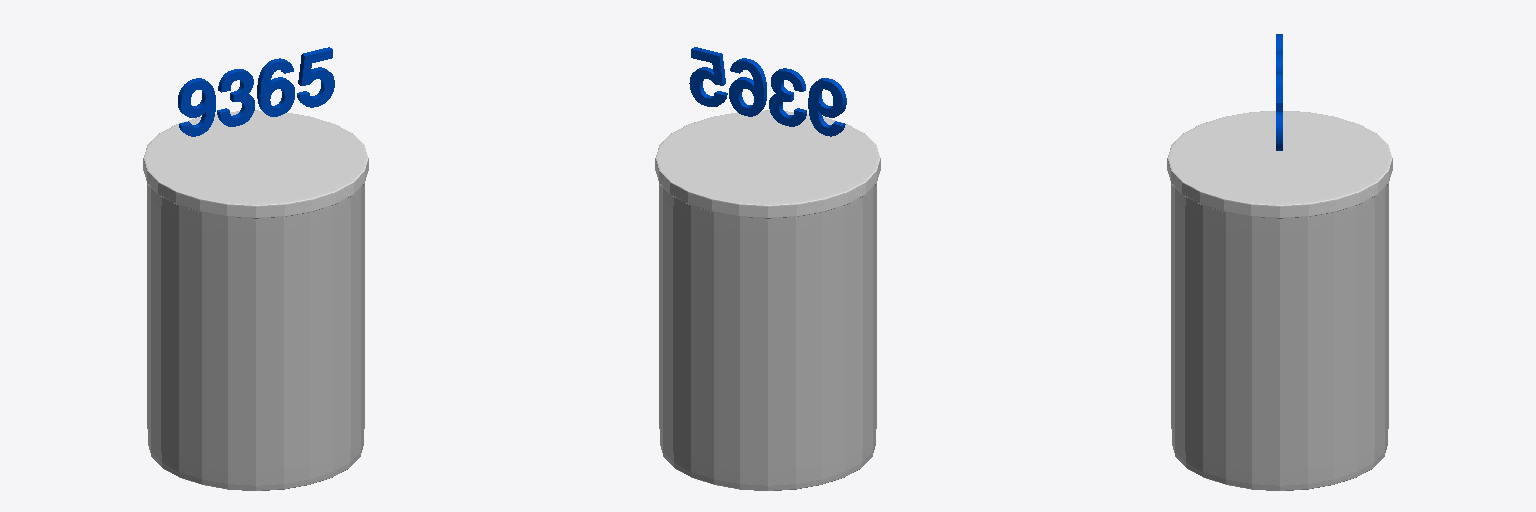
Rendered from BOTE_AVENA_QUAKER.obj.
The picture shows the model from 3 angles: view 1: azimuth 30°, elevation 25°; view 2: azimuth 150°, elevation 25°; view 3: azimuth 270°, elevation 25°; orthographic projection.
Parts seen in each view (by area): view 1: BOTE, TAPA, 9365; view 2: BOTE, TAPA, 9365; view 3: BOTE, TAPA, 9365.
Part boxes in pixels (left/top/right/bottom): BOTE: left=147, top=183, right=364, bottom=490; TAPA: left=143, top=110, right=368, bottom=218; 9365: left=178, top=47, right=334, bottom=136; BOTE: left=659, top=183, right=876, bottom=490; TAPA: left=655, top=110, right=880, bottom=218; 9365: left=689, top=47, right=846, bottom=136; BOTE: left=1171, top=183, right=1388, bottom=490; TAPA: left=1167, top=111, right=1392, bottom=218; 9365: left=1276, top=34, right=1282, bottom=150.
Bounding box in the file's own units: 1700 × 3159 × 1690.